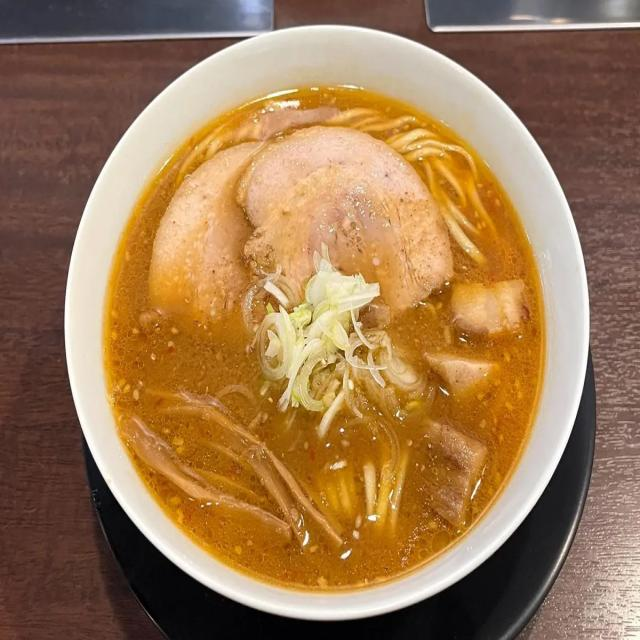carb: (188, 108, 504, 268), (249, 425, 417, 544)
meat: (236, 130, 461, 321), (147, 145, 278, 337)
vegetable: (250, 276, 426, 433), (157, 395, 342, 544), (119, 417, 290, 544), (418, 417, 486, 528), (431, 352, 514, 429), (453, 279, 527, 342)
